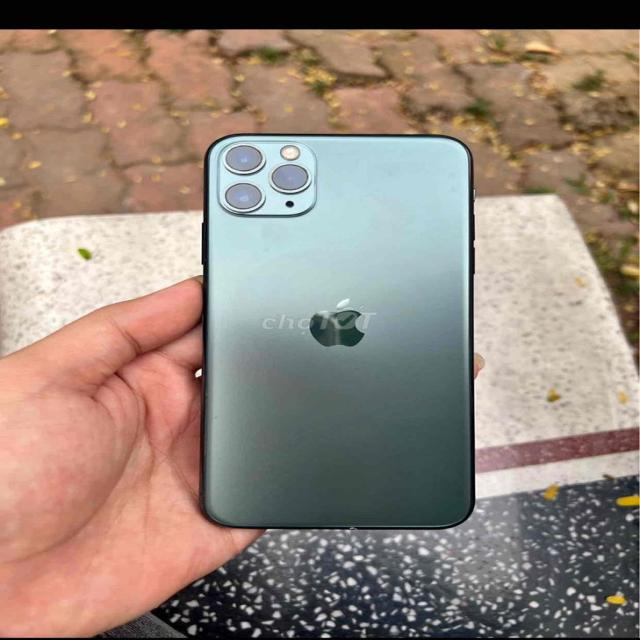gen_11: (197, 118, 492, 536)
